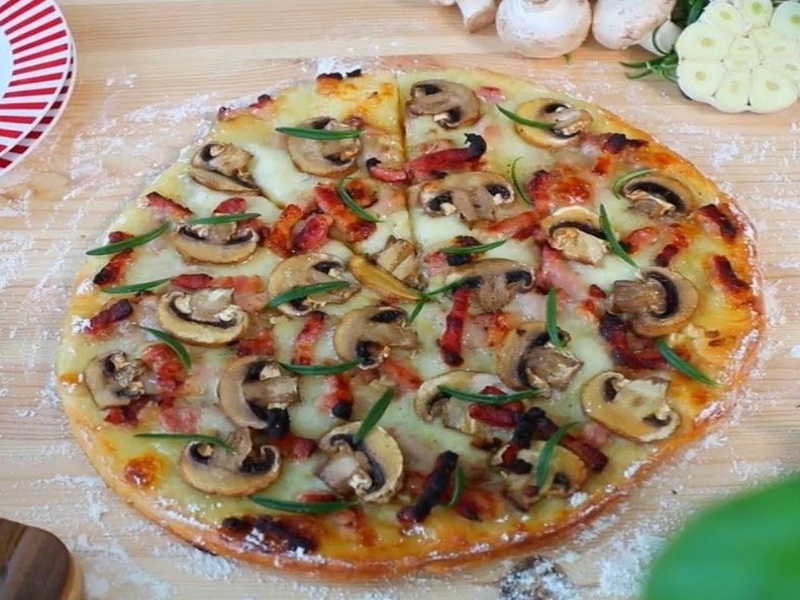champignon: (169, 427, 294, 499), (409, 367, 529, 437), (605, 265, 707, 344), (582, 368, 683, 445), (316, 421, 404, 506), (215, 354, 309, 433), (497, 320, 587, 402), (267, 247, 364, 322), (159, 285, 257, 347), (333, 305, 431, 366), (438, 258, 541, 315), (78, 349, 167, 410), (420, 168, 515, 225), (616, 169, 697, 232), (536, 201, 618, 263), (284, 117, 364, 177), (174, 215, 261, 268), (508, 97, 595, 149), (405, 78, 486, 129), (188, 141, 264, 195)
